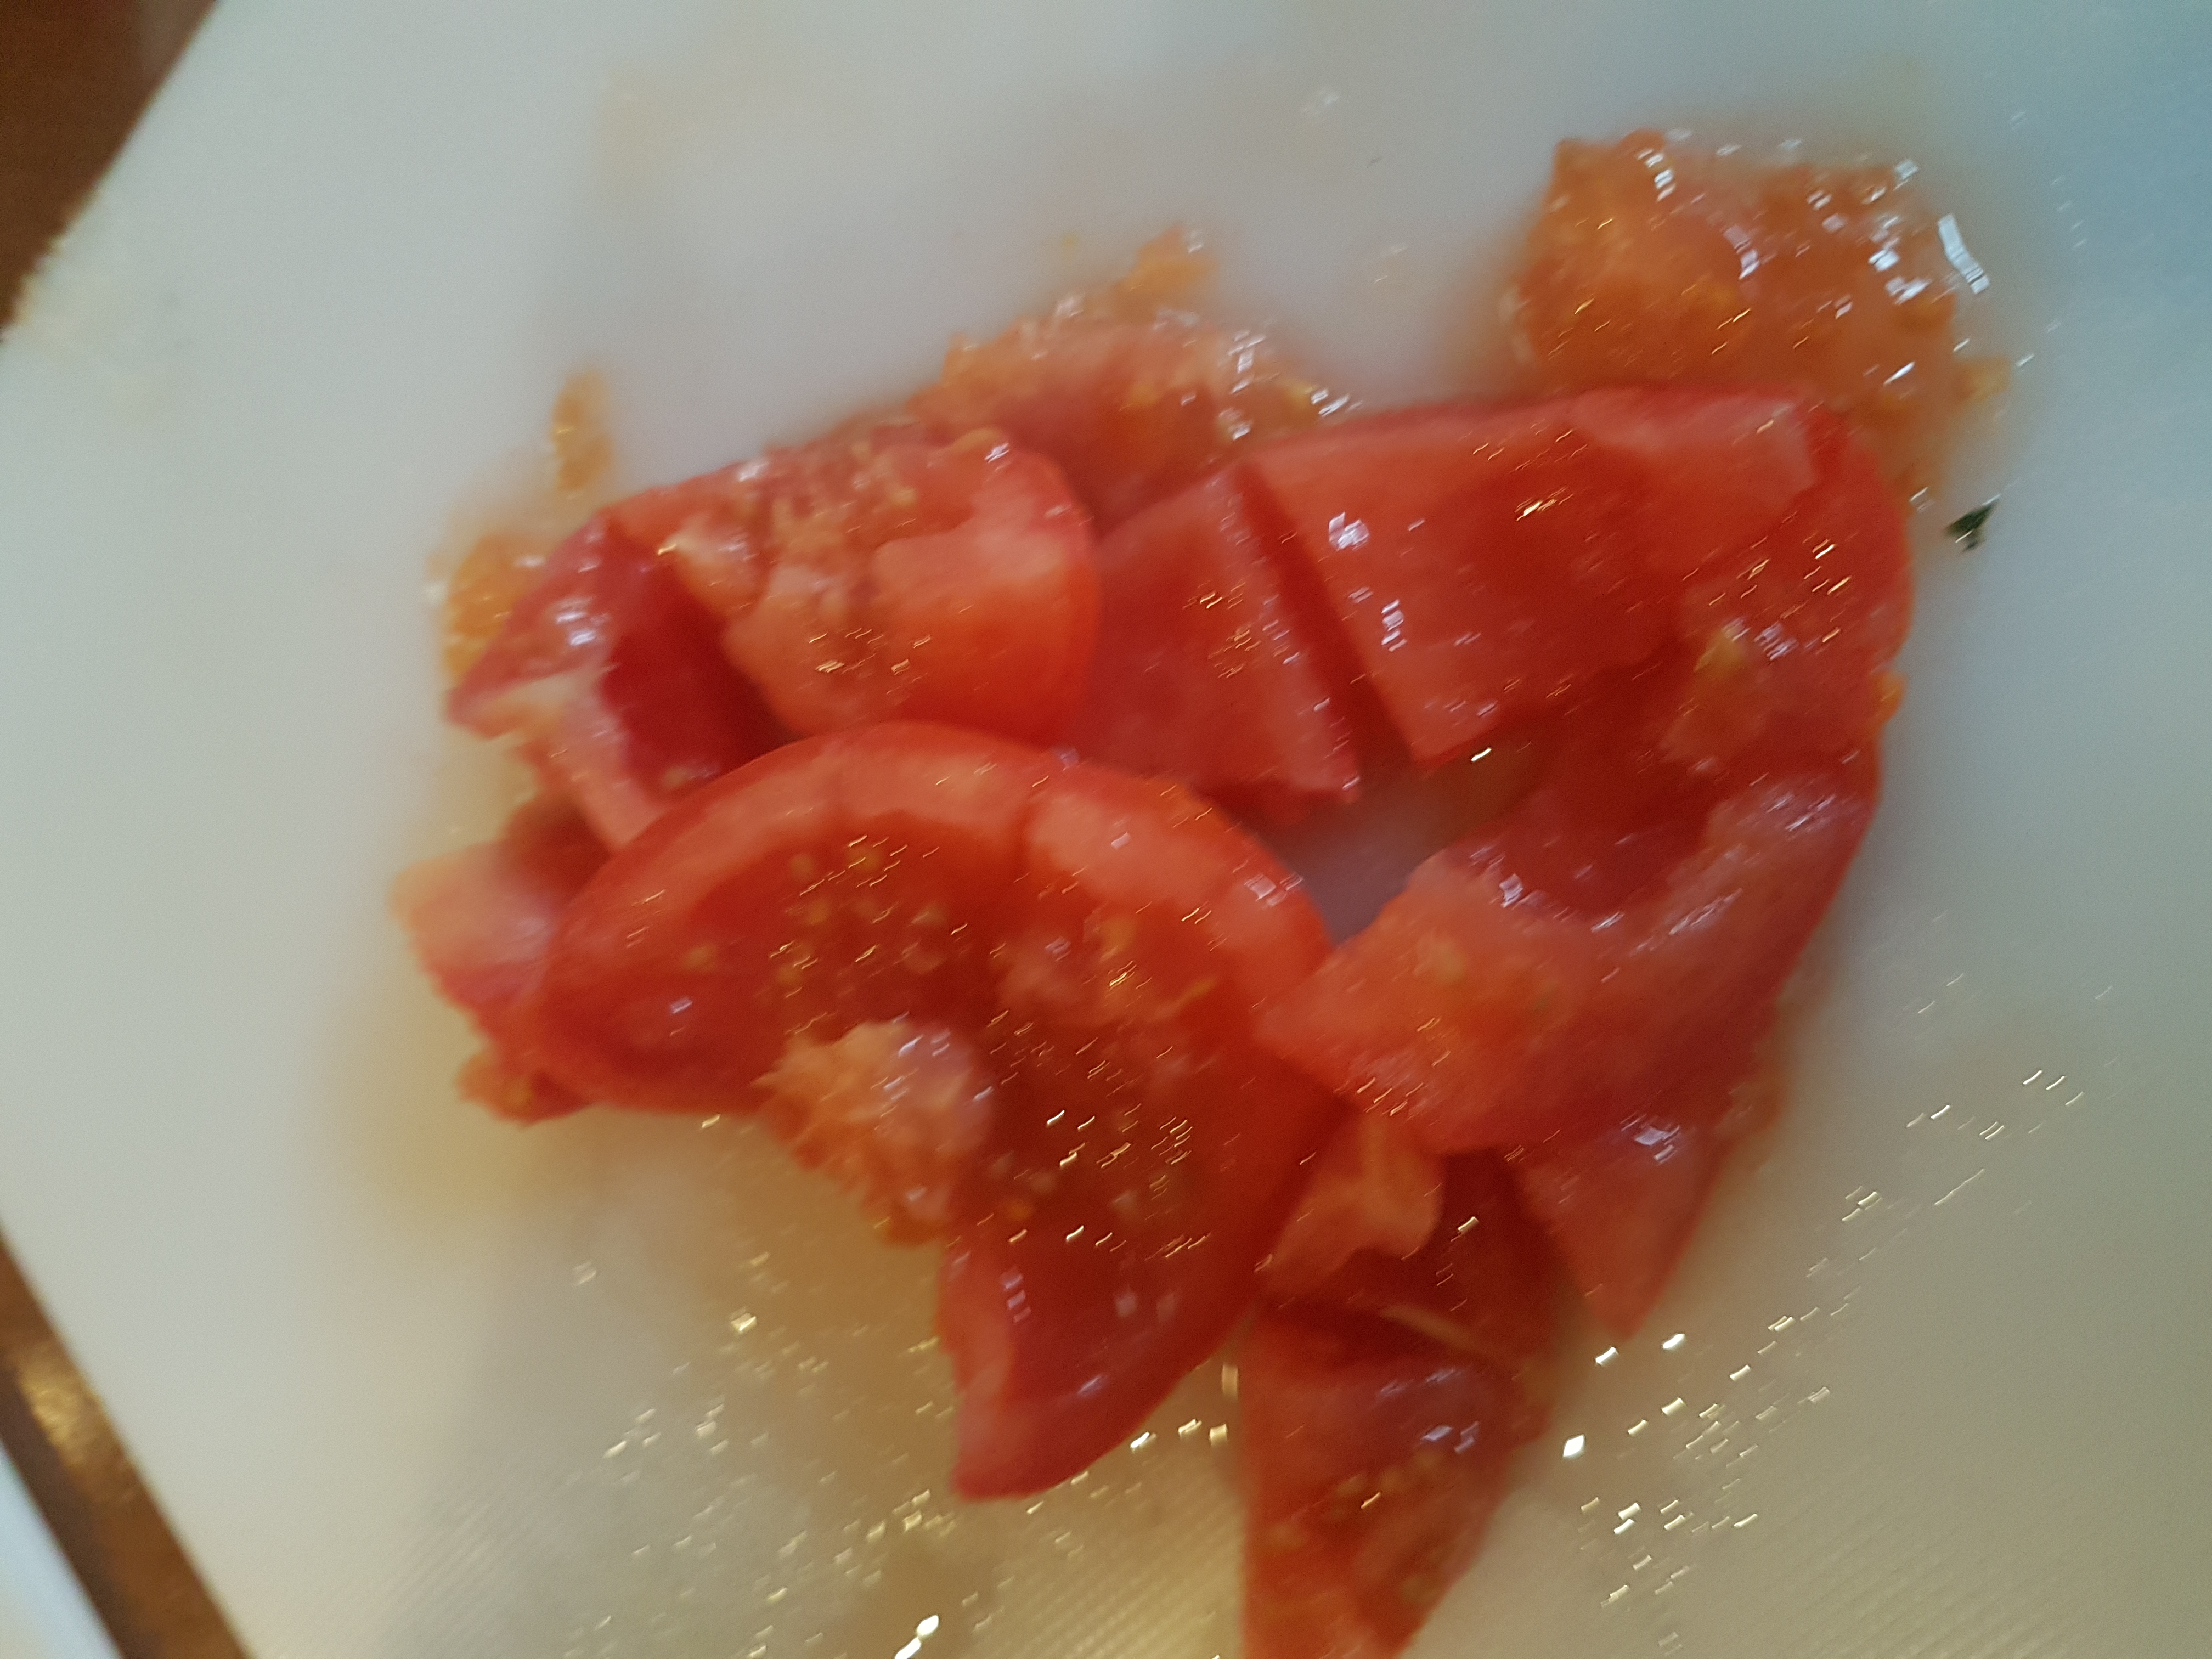Tomato: (169, 87, 2067, 1582)
